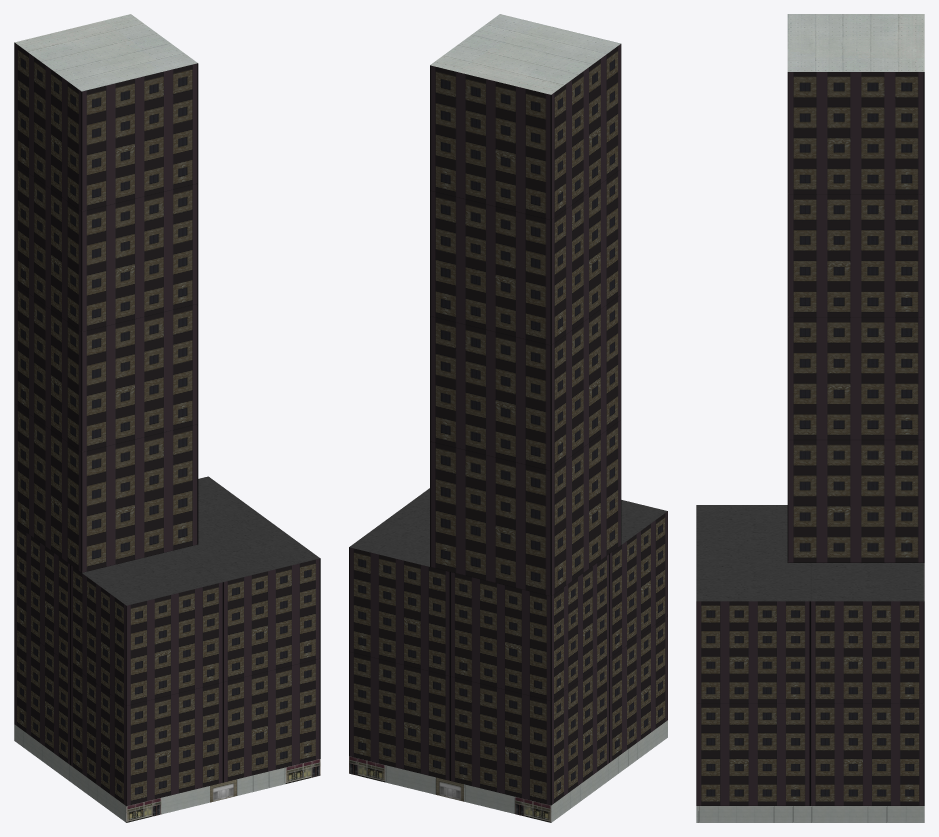
File: Building015.fbx
3 views of the same model, side by side, from view 1: azimuth 30°, elevation 25°; view 2: azimuth 150°, elevation 25°; view 3: azimuth 270°, elevation 25° (orthographic). The views are drawn at different scales.
Visible parts, largest first — view 1: Building015; view 2: Building015; view 3: Building015.
Part boxes in pixels (x1,y1,x2,y2): Building015: [14, 14, 320, 822]; Building015: [349, 14, 667, 822]; Building015: [696, 14, 924, 822].
Size of the model in its own units: 23.64 by 81.32 by 23.64.
